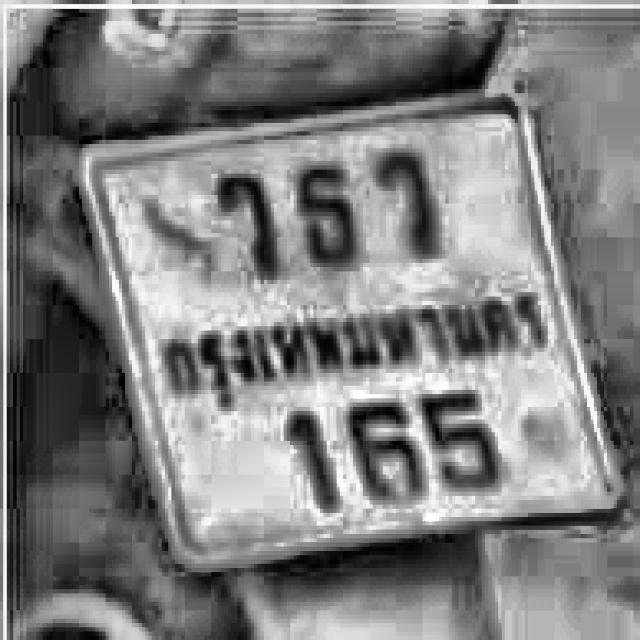license-plate: (60, 78, 630, 568)
